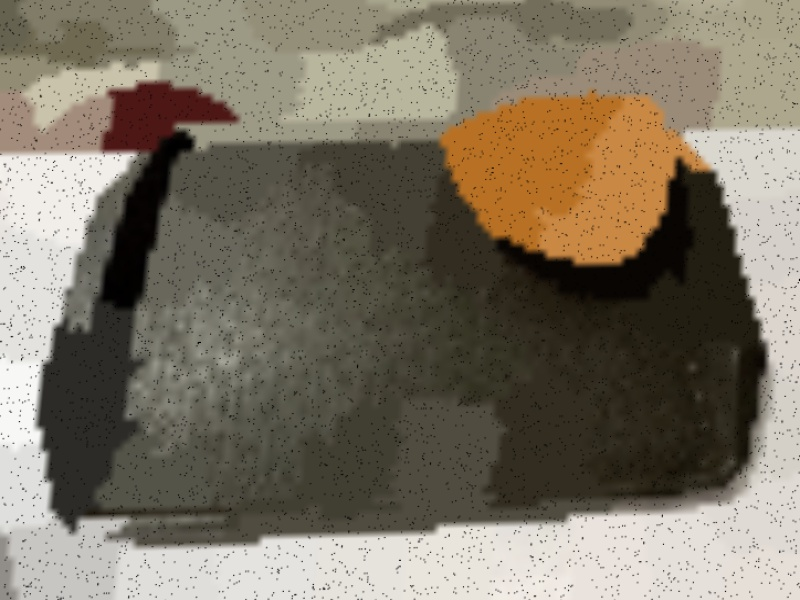dish11: (426, 87, 683, 277)
